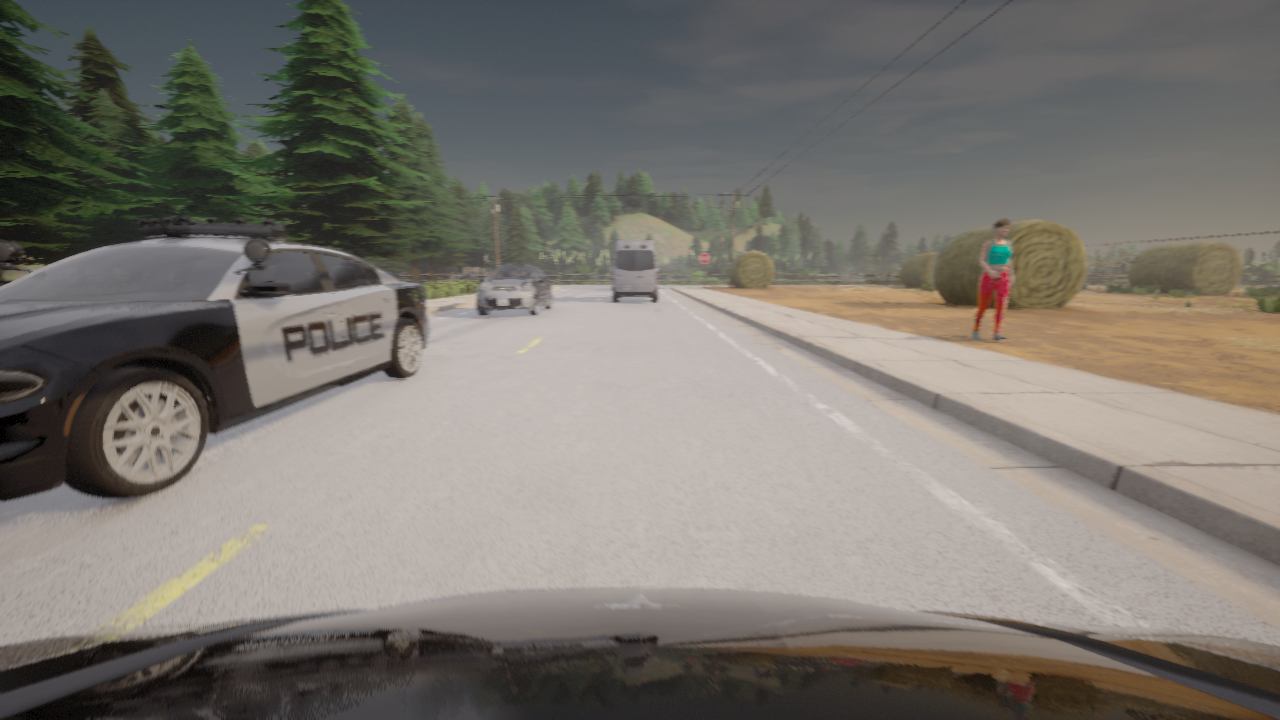cyclist: (0, 588, 1279, 719), (0, 217, 429, 501), (477, 263, 551, 315), (612, 240, 657, 300)
pedestrian: (971, 219, 1013, 339)
